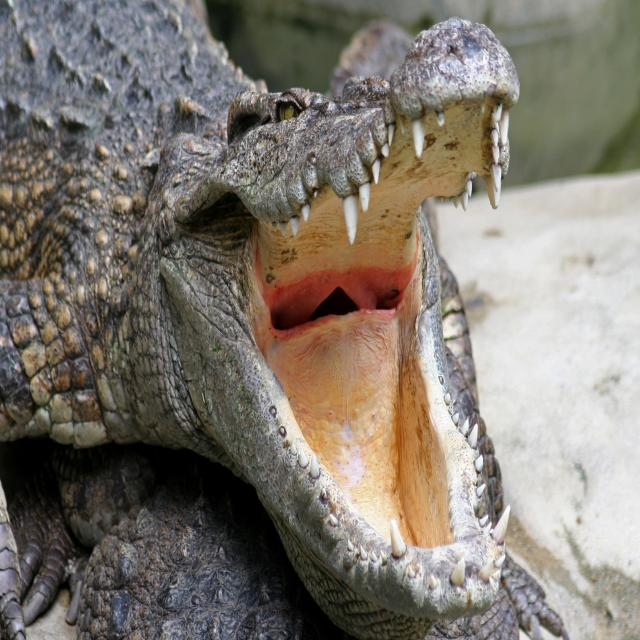crocodile: (0, 0, 594, 640)
